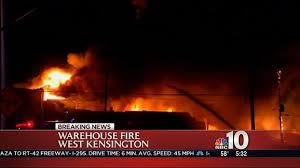fire: (33, 60, 76, 98)
